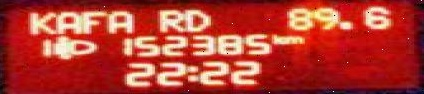-: (338, 19, 353, 30)
1: (119, 35, 131, 57), (38, 36, 48, 60)
2: (121, 60, 152, 85), (228, 59, 259, 84), (155, 60, 183, 85), (200, 59, 226, 85), (160, 34, 183, 54)
3: (190, 34, 213, 55)
5: (132, 33, 157, 56), (244, 33, 267, 54)
6: (358, 4, 393, 29)
8: (284, 6, 309, 30), (215, 33, 241, 54)
9: (312, 5, 335, 29)
X: (25, 7, 53, 35), (106, 8, 134, 34), (157, 6, 182, 33), (182, 8, 213, 29), (53, 11, 78, 34), (81, 10, 101, 34), (185, 61, 198, 85), (281, 34, 302, 44), (266, 31, 279, 44)
